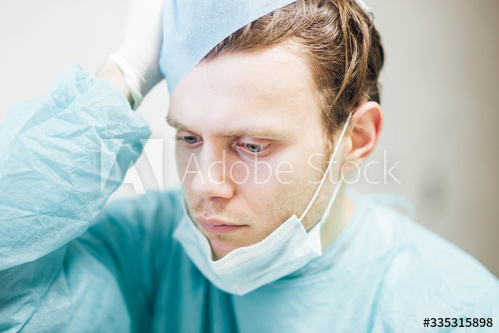mask_weared_incorrect: (159, 64, 391, 299)
